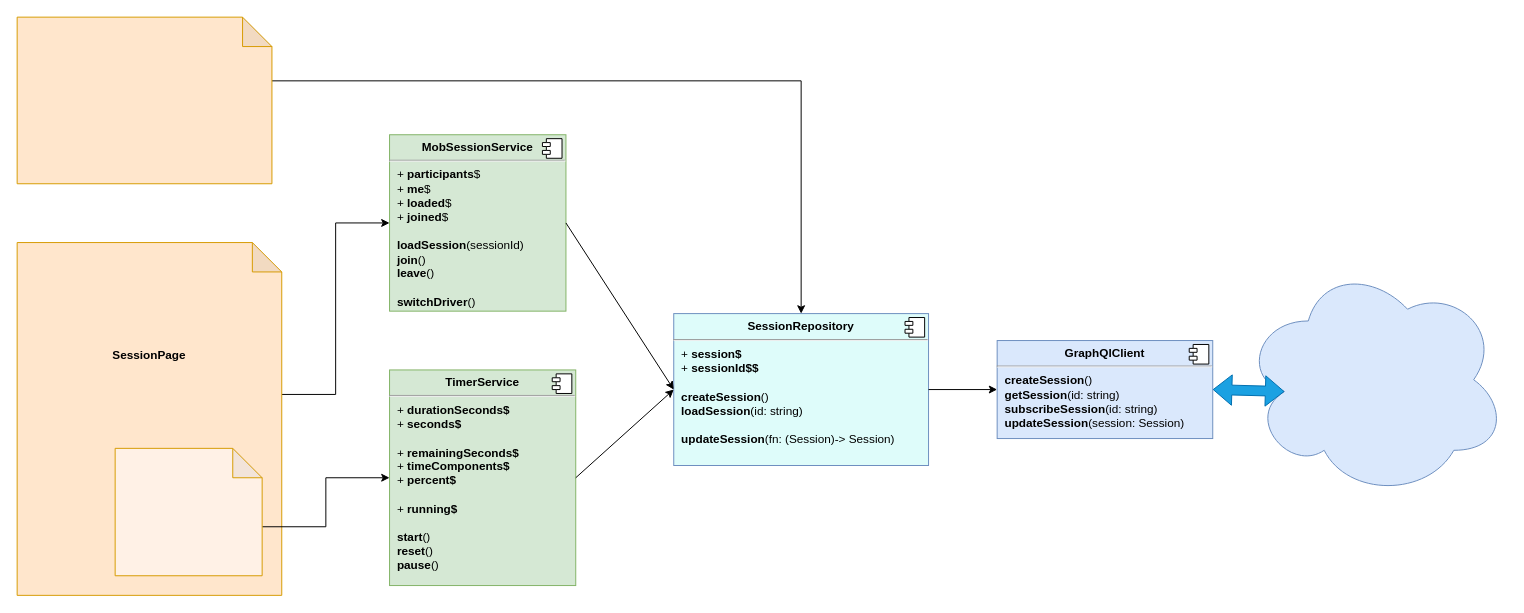
Image size: 1524x613. Some labels were removed from this diagram. Each missing label, with the centre of its shape:
GraphQL Backend: [1374,379]
Landing Page: [144,100]
Timer: [188,511]
